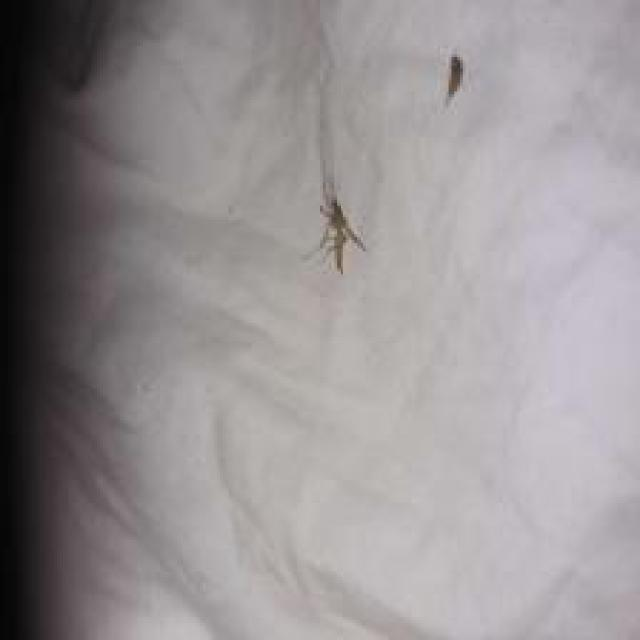Culex: (307, 181, 367, 276)
